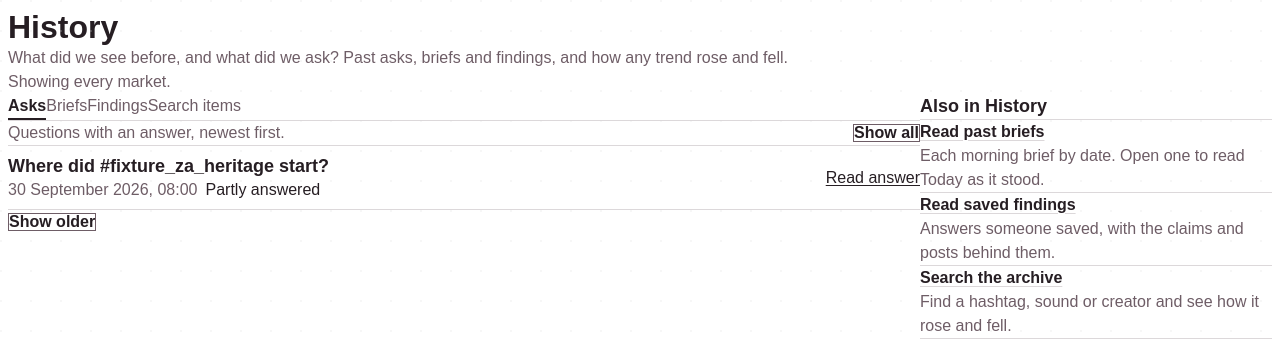
Test: each brief row says what Today showed and held per market, a brief that held every item included
Click the tab "Briefs" at (67, 107), box 46,94 -> 87,120
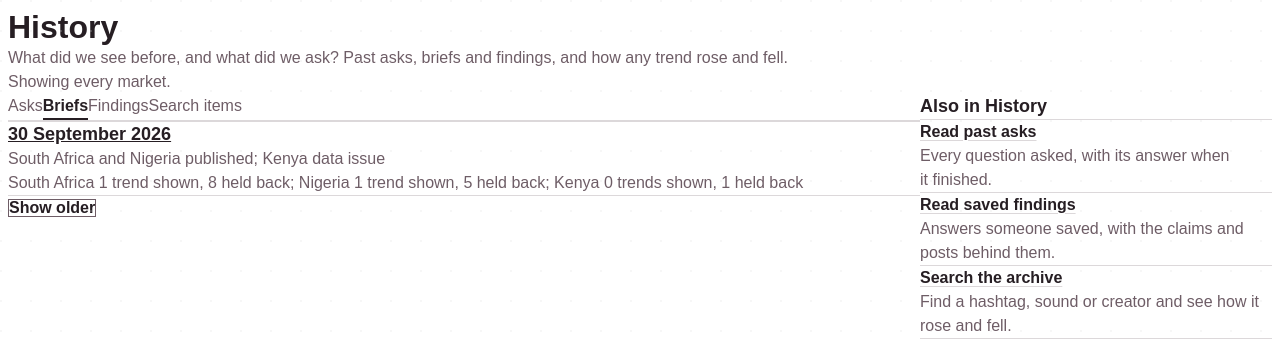
Check: the text "South Africa 1 trend shown, 8 held back; Nigeria 1 trend shown, 5 held back; Kenya 0 trends shown, 1 held back" is shown, box 8,174 -> 803,191
Click the button "Show older" at (52, 208), box 8,199 -> 96,217
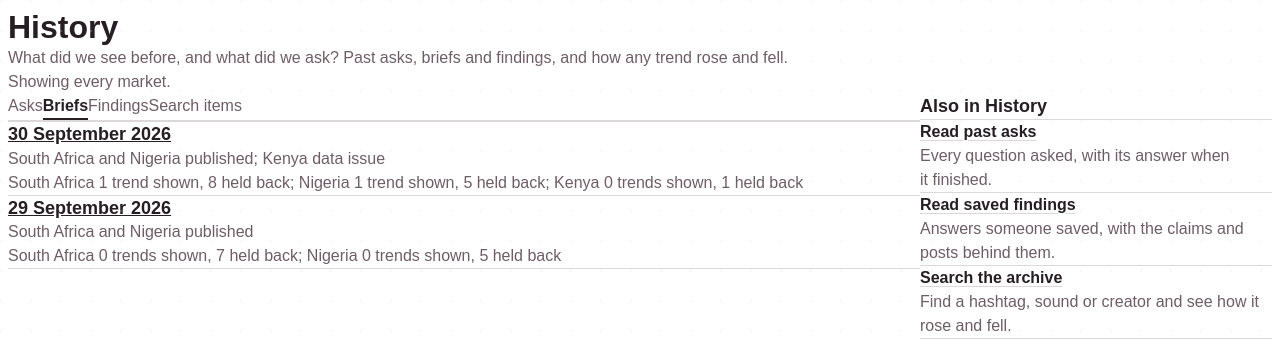
Check: the text "South Africa 0 trends shown, 7 held back; Nigeria 0 trends shown, 5 held back" is shown, box 8,247 -> 561,264
